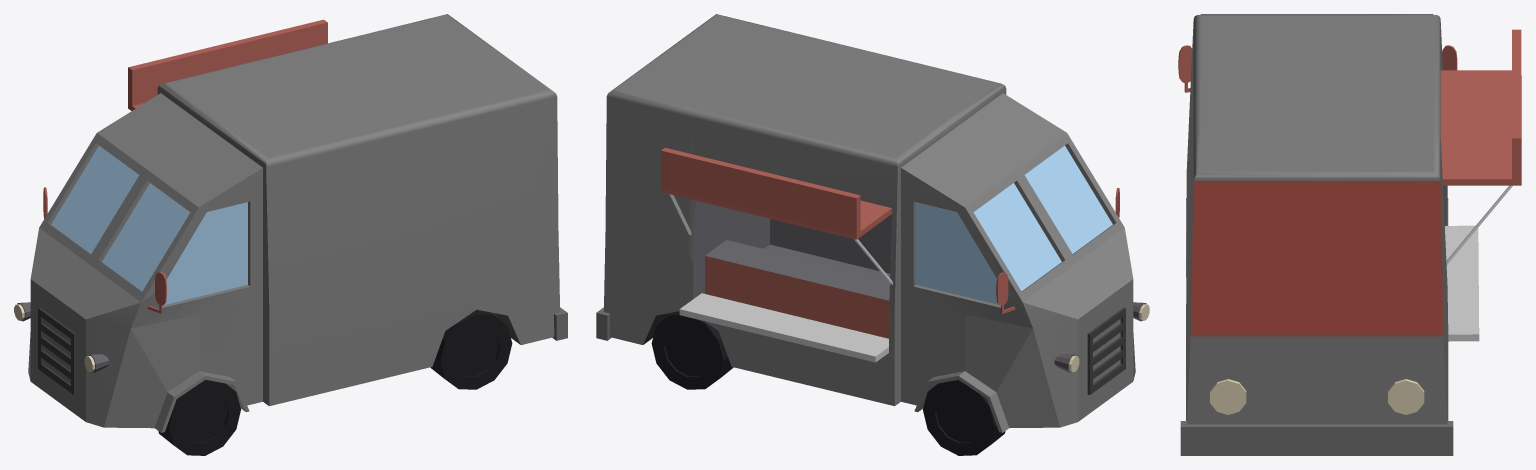
The model's file is foodtruck03.fbx.
The picture shows the model from 3 angles, left to right: view 1: azimuth 30°, elevation 25°; view 2: azimuth 150°, elevation 25°; view 3: azimuth 270°, elevation 25°; orthographic projection. The views are drawn at different scales.
Parts seen in each view (by area): view 1: fbx_foodtruck03; view 2: fbx_foodtruck03; view 3: fbx_foodtruck03.
Part boxes in pixels (box(x1,y1,x2,y2)): fbx_foodtruck03: box(14, 14, 567, 455); fbx_foodtruck03: box(596, 14, 1149, 455); fbx_foodtruck03: box(1178, 14, 1521, 455).
Size of the model in its own units: 6.28 by 3.65 by 3.6.
Materials: 1 (1 with a texture image).
